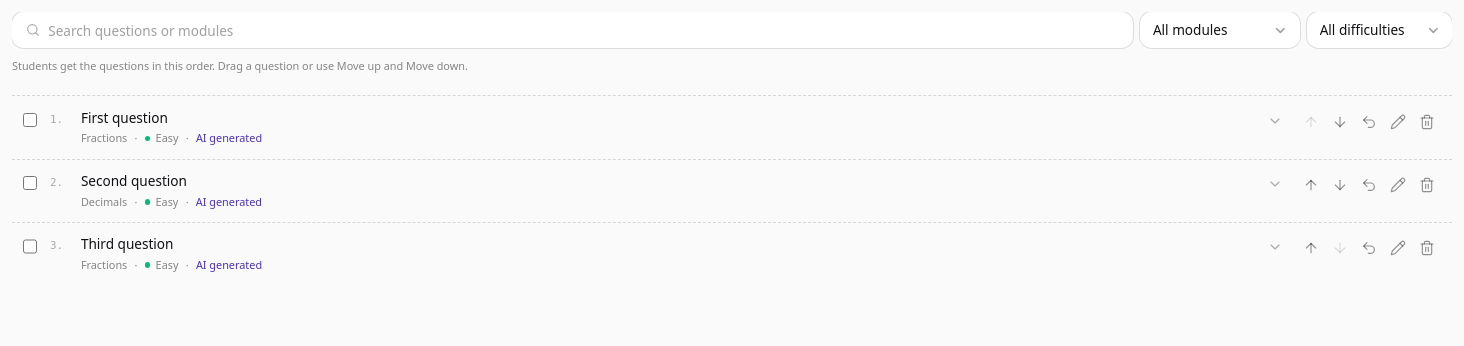
Test case: QuestionBank › ordering inside a quiz › puts the list back and says so when saving the order fails
Expected: the text "First question" is shown, [81,108,168,127]
Step 1. Click the button named "Move First question down" → (1340, 122), box [1325,107,1354,136]
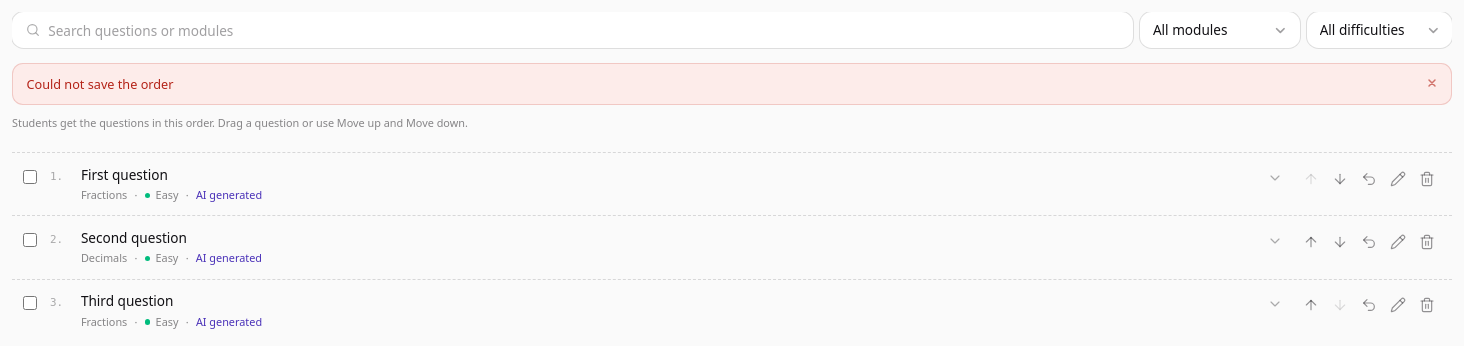
Expected: the text "Could not save the order" is shown, [26,75,174,93]
